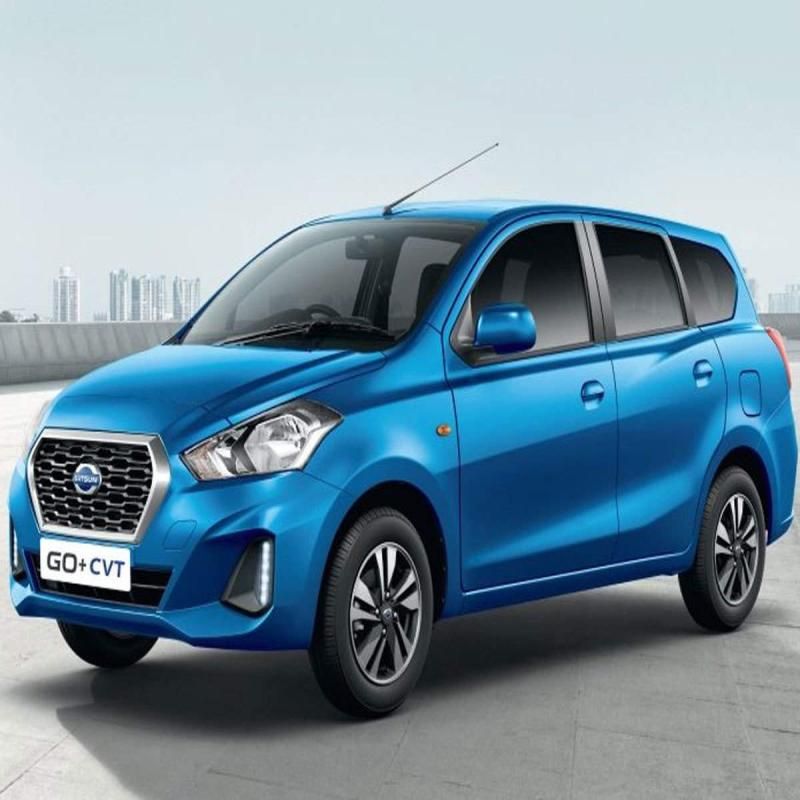car: (19, 161, 796, 719)
